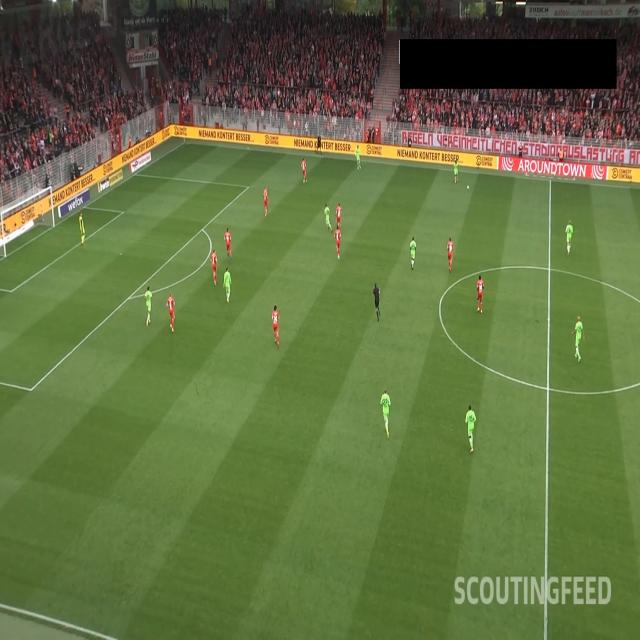ball: (466, 184, 469, 190)
